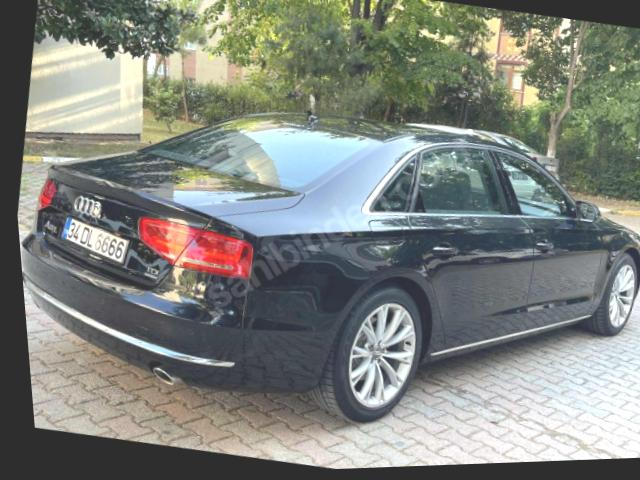plaka: (62, 218, 128, 263)
